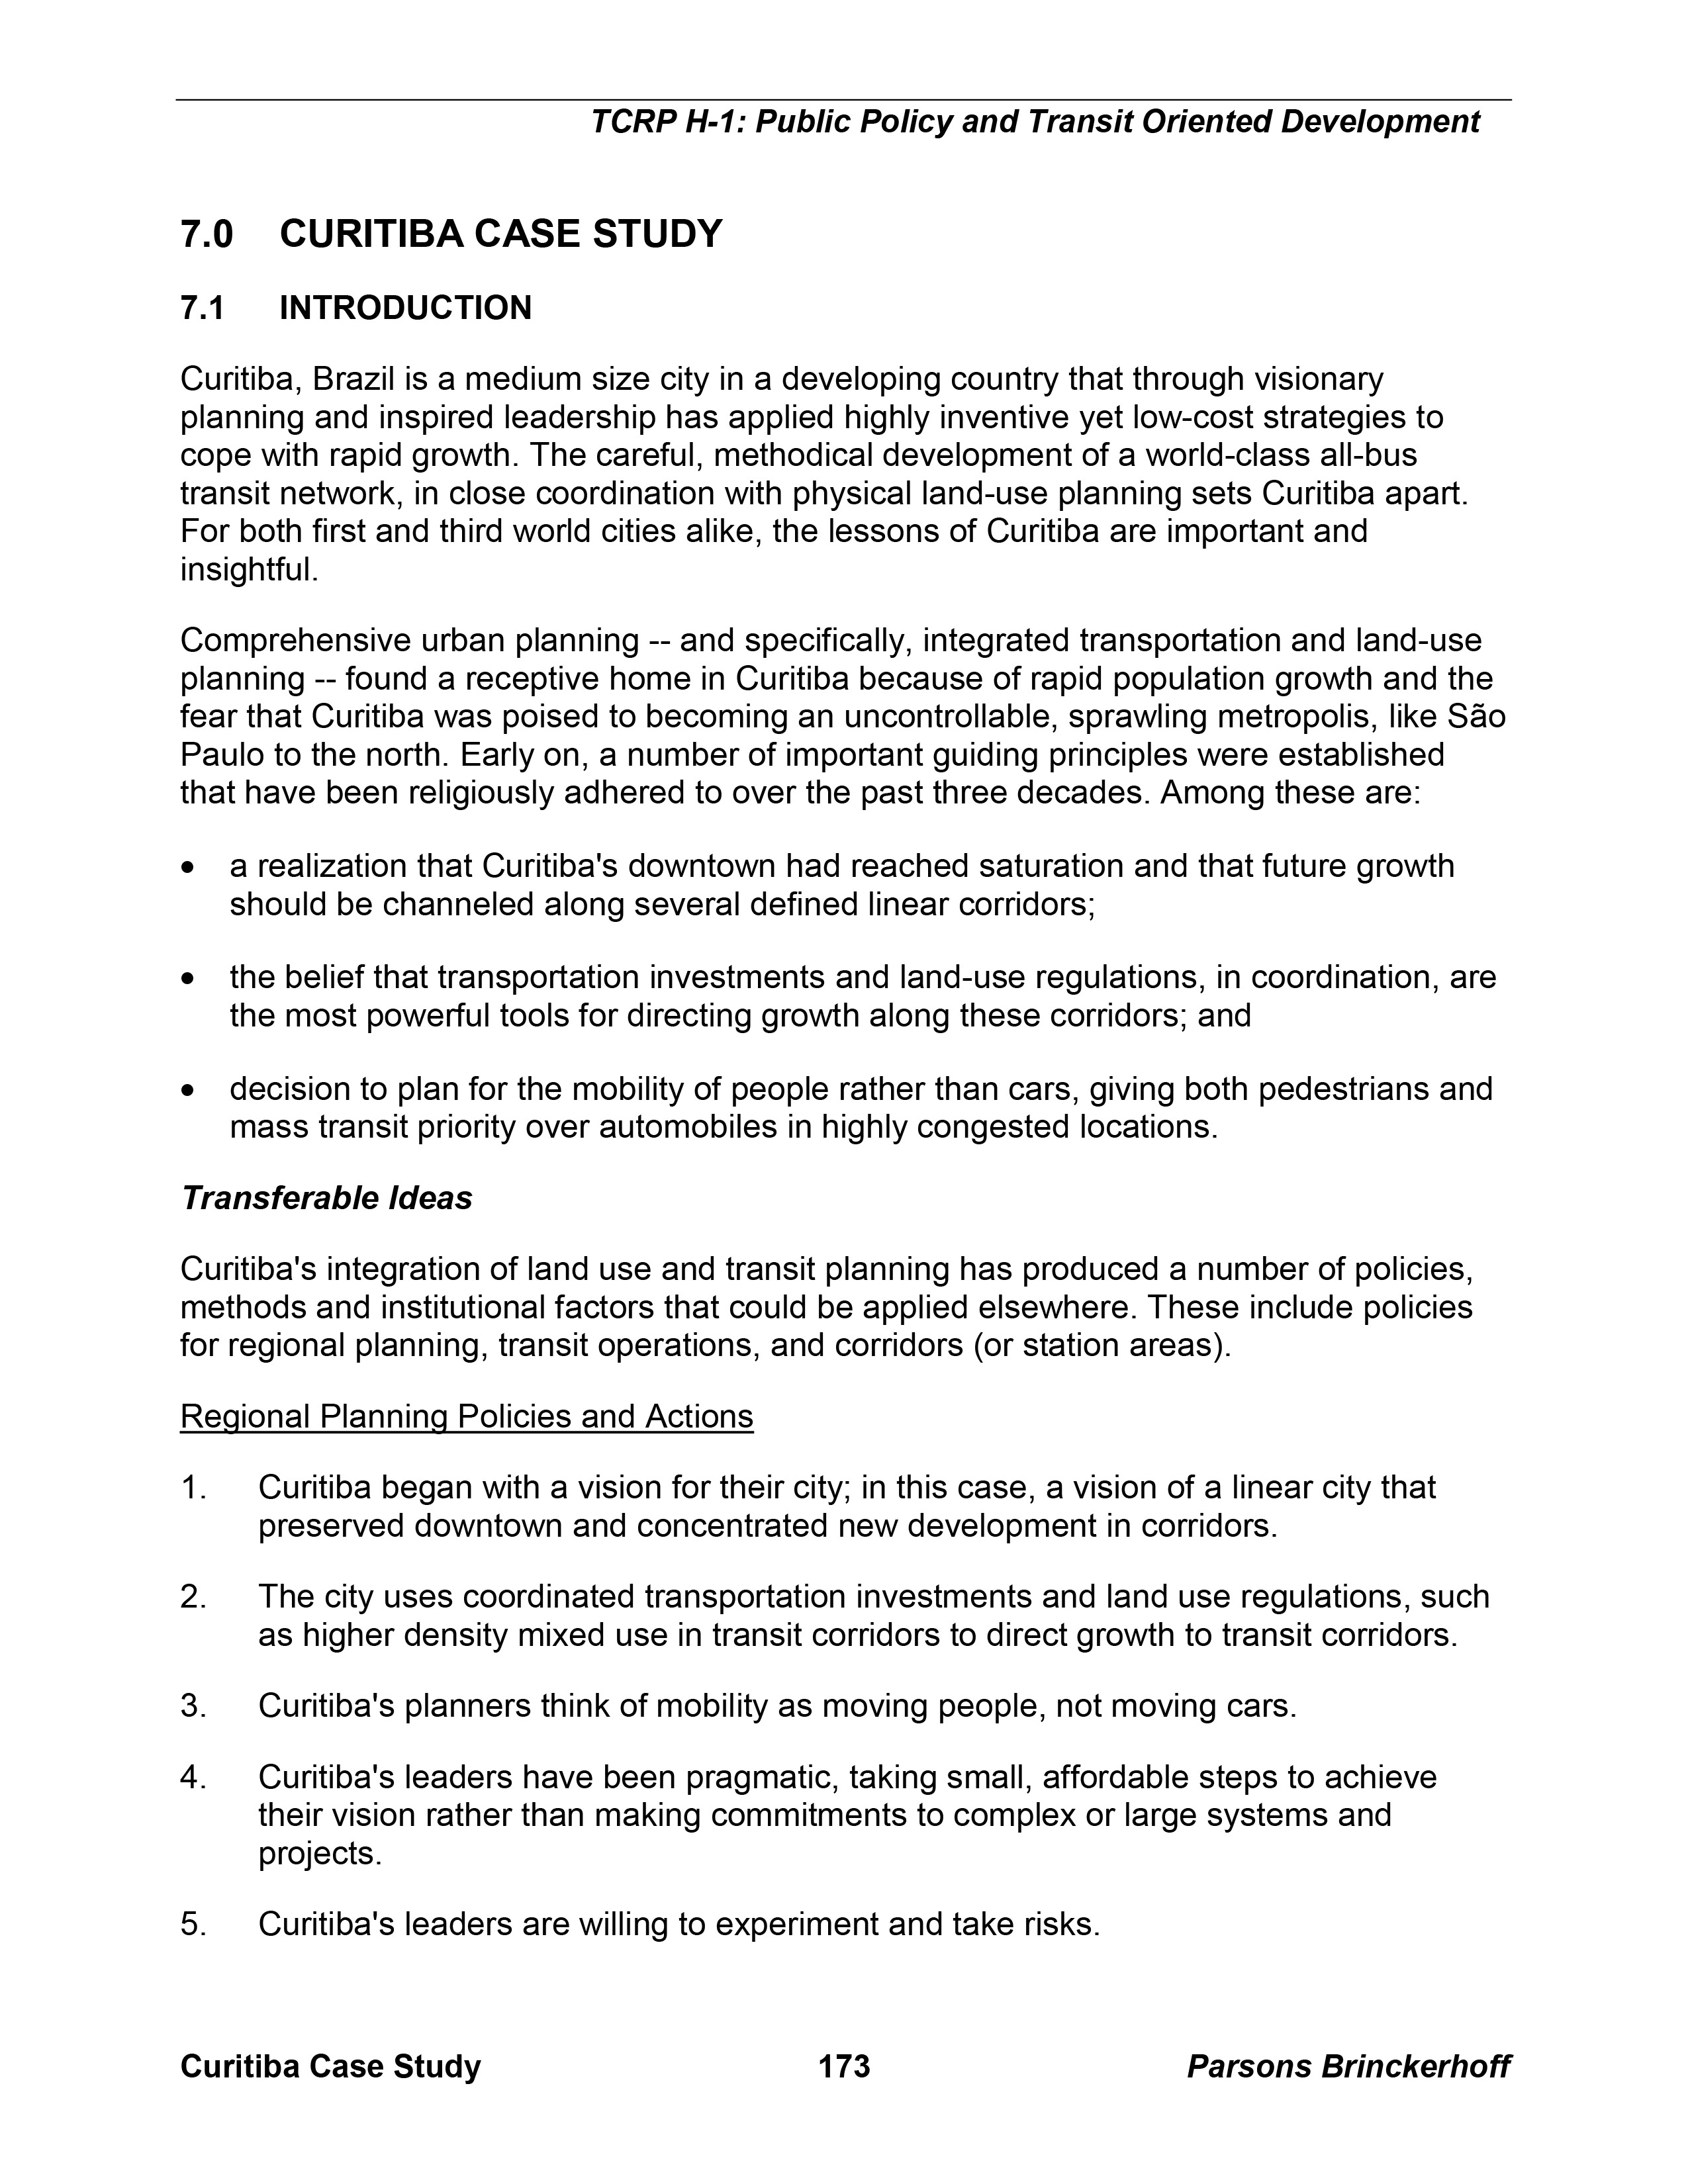list: (165, 1473, 1488, 1950), (172, 849, 1511, 1152)
section: (172, 199, 738, 261), (168, 1179, 509, 1228), (172, 294, 551, 326)
text: (165, 347, 1477, 596), (165, 631, 1504, 819), (168, 1252, 1491, 1358), (176, 1392, 746, 1445)
